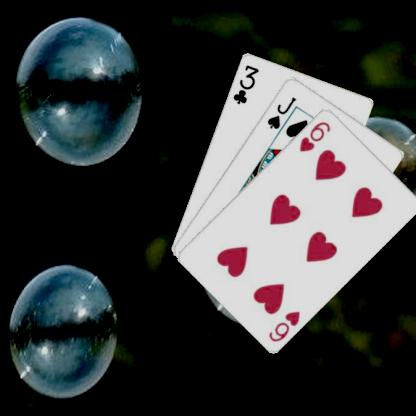3C: (230, 62, 260, 106)
6H: (296, 119, 332, 153), (266, 308, 301, 342)
JS: (264, 94, 298, 130)
